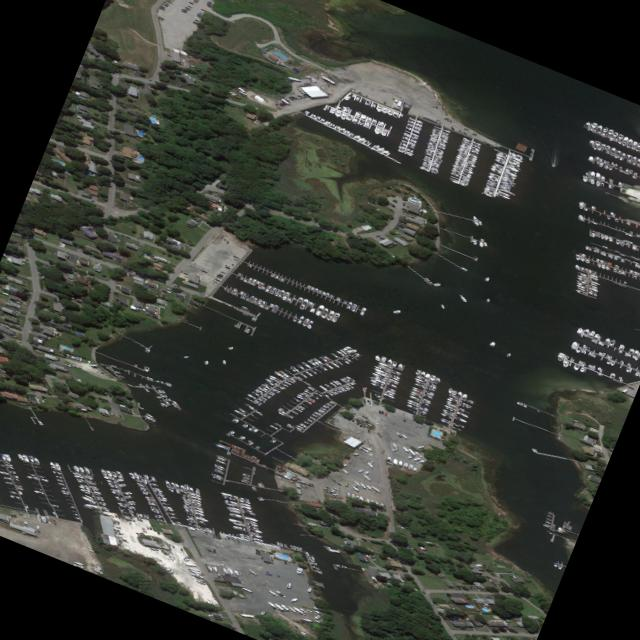ship: (242, 369, 297, 404), (219, 282, 277, 311), (293, 398, 334, 430), (133, 478, 163, 519), (396, 116, 422, 154), (229, 446, 259, 462), (367, 374, 384, 383), (371, 365, 388, 374), (78, 494, 95, 503), (496, 186, 514, 194), (290, 605, 306, 614), (229, 442, 245, 451), (218, 490, 238, 497), (320, 74, 335, 83), (494, 191, 510, 199), (370, 370, 386, 378), (371, 368, 387, 376), (372, 363, 388, 371), (271, 601, 285, 610), (275, 368, 289, 377), (449, 177, 464, 185), (505, 161, 520, 169), (208, 470, 223, 478), (375, 359, 390, 367), (499, 178, 513, 186), (503, 168, 517, 176), (241, 401, 255, 409), (369, 377, 383, 385), (371, 373, 385, 381), (265, 600, 279, 608), (507, 154, 522, 161), (504, 164, 519, 171), (368, 380, 383, 387), (509, 151, 522, 159), (496, 188, 509, 196), (304, 73, 317, 81), (455, 409, 468, 417), (273, 588, 286, 596), (479, 190, 493, 197), (506, 156, 520, 163), (505, 158, 519, 165), (500, 176, 514, 183), (375, 362, 389, 369), (217, 438, 231, 445), (190, 571, 204, 578), (221, 497, 237, 503), (226, 510, 242, 516), (299, 359, 311, 367), (230, 523, 246, 529), (278, 602, 290, 610), (369, 484, 381, 492), (134, 511, 150, 517), (481, 185, 494, 192), (493, 151, 506, 158), (501, 174, 514, 181), (502, 171, 515, 178), (488, 163, 501, 170), (503, 166, 516, 173), (232, 407, 245, 414), (213, 442, 226, 449), (210, 466, 223, 473), (453, 414, 466, 421), (424, 382, 437, 389), (382, 391, 395, 398), (405, 396, 418, 403), (409, 386, 422, 393), (412, 375, 425, 382), (263, 376, 276, 383), (555, 350, 564, 360), (293, 564, 303, 573), (247, 526, 262, 532), (82, 501, 97, 507), (194, 515, 209, 521), (245, 566, 256, 574), (499, 181, 511, 188), (488, 165, 500, 172), (227, 516, 241, 522), (221, 494, 235, 500), (442, 402, 454, 409), (387, 376, 399, 383), (408, 388, 420, 395), (308, 357, 320, 364), (266, 588, 278, 595), (231, 520, 245, 526), (359, 443, 371, 450), (144, 414, 156, 421), (82, 492, 94, 499), (266, 374, 278, 381), (272, 369, 284, 376), (267, 373, 279, 380), (568, 339, 577, 348), (581, 119, 590, 128), (2, 451, 11, 460), (223, 504, 239, 509), (223, 501, 239, 506), (238, 612, 254, 617), (491, 156, 504, 162), (485, 173, 498, 179), (407, 391, 420, 397), (244, 517, 257, 523), (244, 515, 257, 521), (71, 562, 84, 568), (288, 364, 299, 371), (498, 183, 509, 190), (418, 164, 429, 171), (386, 380, 397, 387), (384, 387, 395, 394), (305, 358, 316, 365), (311, 356, 322, 363), (334, 348, 345, 355), (241, 585, 252, 592), (297, 606, 308, 613), (358, 445, 369, 452), (91, 566, 102, 573), (457, 293, 466, 301), (493, 154, 505, 160), (495, 149, 507, 155), (487, 171, 499, 177), (491, 161, 503, 167), (338, 111, 347, 119), (332, 108, 341, 116), (278, 97, 290, 103), (372, 125, 381, 133), (581, 326, 590, 334), (561, 358, 569, 367), (571, 362, 580, 370), (576, 199, 584, 208), (439, 411, 451, 417), (444, 396, 456, 402), (412, 378, 424, 384), (407, 393, 419, 399), (410, 384, 422, 390), (413, 373, 425, 379), (311, 604, 323, 610), (311, 612, 323, 618), (238, 500, 250, 506), (20, 452, 29, 460), (52, 461, 61, 469), (47, 460, 56, 468), (326, 547, 340, 552), (370, 142, 380, 149), (339, 356, 349, 363), (406, 447, 416, 454), (298, 616, 312, 621), (286, 604, 296, 611), (207, 598, 217, 605), (185, 565, 199, 570), (455, 152, 466, 158), (455, 147, 466, 153), (454, 154, 465, 160), (390, 307, 401, 313), (481, 188, 492, 194), (460, 171, 471, 177), (449, 167, 460, 173), (450, 162, 461, 168), (452, 158, 463, 164), (464, 160, 475, 166), (452, 156, 463, 162), (483, 183, 494, 189), (484, 178, 495, 184), (486, 176, 497, 182), (235, 406, 246, 412), (214, 457, 225, 463), (213, 462, 224, 468), (212, 464, 223, 470), (573, 287, 584, 293), (574, 280, 585, 286), (621, 237, 632, 243), (575, 275, 586, 281), (588, 279, 599, 285), (587, 274, 598, 280), (441, 407, 452, 413), (459, 400, 470, 406), (446, 392, 457, 398), (388, 374, 399, 380), (384, 385, 395, 391), (389, 372, 400, 378), (383, 389, 394, 395), (422, 389, 433, 395), (405, 402, 416, 408), (406, 400, 417, 406), (418, 403, 429, 409), (420, 397, 431, 403), (294, 362, 305, 368), (336, 347, 347, 353), (291, 423, 302, 429), (255, 385, 266, 391), (245, 392, 256, 398), (189, 494, 202, 499), (286, 75, 299, 80), (344, 347, 357, 352), (245, 521, 258, 526), (239, 504, 252, 509), (237, 498, 250, 503), (77, 486, 90, 491), (24, 473, 37, 478), (369, 574, 377, 582), (374, 103, 382, 111), (342, 104, 350, 112), (379, 127, 387, 135), (587, 328, 595, 336), (631, 347, 639, 355), (428, 372, 436, 380), (220, 565, 228, 573), (210, 563, 218, 571), (71, 463, 79, 471), (575, 325, 582, 334), (257, 608, 266, 615), (361, 472, 370, 479), (339, 466, 348, 473), (126, 471, 135, 478), (139, 476, 148, 483), (303, 369, 313, 375), (298, 371, 308, 377), (461, 169, 471, 175), (450, 165, 460, 171), (462, 167, 472, 173), (452, 160, 462, 166), (484, 181, 494, 187), (188, 491, 200, 496), (375, 145, 385, 151), (305, 384, 315, 390), (587, 289, 597, 295), (575, 285, 585, 291), (575, 282, 585, 288), (575, 273, 587, 278), (576, 270, 586, 276), (441, 409, 451, 415), (445, 398, 455, 404), (446, 394, 456, 400), (425, 384, 435, 390), (317, 383, 327, 389), (417, 407, 427, 413), (418, 405, 428, 411), (426, 380, 436, 386), (318, 363, 328, 369), (344, 374, 354, 380), (338, 376, 348, 382), (329, 378, 339, 384), (317, 355, 327, 361), (329, 360, 339, 366), (237, 531, 249, 536), (249, 532, 261, 537), (349, 484, 359, 490), (31, 488, 43, 493), (264, 379, 274, 385), (259, 382, 269, 388), (250, 389, 260, 395), (36, 476, 48, 481), (182, 561, 197, 565), (71, 559, 83, 564), (102, 474, 114, 479), (7, 493, 19, 498), (319, 310, 326, 318), (391, 109, 399, 116), (380, 105, 388, 112), (354, 109, 361, 117), (617, 342, 625, 349), (607, 338, 615, 345), (602, 335, 610, 342), (487, 339, 495, 346), (586, 137, 593, 145), (586, 153, 593, 161), (423, 370, 430, 378), (232, 568, 240, 575), (225, 566, 233, 573), (616, 132, 624, 139), (600, 125, 608, 132), (589, 120, 597, 127), (365, 460, 373, 467), (15, 452, 23, 459), (114, 469, 121, 477), (104, 468, 112, 475), (99, 468, 107, 475), (39, 515, 47, 522), (83, 465, 90, 473), (190, 496, 201, 501), (575, 278, 586, 283), (413, 381, 424, 386), (421, 392, 432, 397), (349, 350, 360, 355), (246, 523, 257, 528), (215, 453, 226, 458), (192, 507, 203, 512), (193, 510, 204, 515), (184, 516, 195, 521), (467, 151, 476, 157), (458, 178, 467, 184), (313, 390, 322, 396), (352, 133, 361, 139), (588, 285, 597, 291), (581, 173, 587, 182), (324, 362, 333, 368), (341, 375, 350, 381), (330, 351, 339, 357), (334, 358, 343, 364), (322, 354, 331, 360), (278, 405, 287, 411), (405, 452, 414, 458), (363, 483, 372, 489), (276, 382, 285, 388), (262, 381, 271, 387), (187, 568, 200, 572), (466, 154, 476, 159), (457, 145, 467, 150), (458, 143, 468, 148), (469, 145, 479, 150), (460, 139, 470, 144), (438, 134, 448, 139), (465, 156, 475, 161), (191, 499, 201, 504), (215, 455, 225, 460), (295, 392, 305, 397), (433, 147, 443, 152), (322, 382, 332, 387), (587, 283, 597, 288), (587, 281, 597, 286), (443, 405, 453, 410), (445, 401, 455, 406), (458, 402, 468, 407), (390, 368, 400, 373), (327, 380, 337, 385), (267, 423, 277, 428), (275, 407, 285, 412), (143, 411, 153, 416), (252, 388, 262, 393), (330, 315, 337, 322), (325, 313, 332, 320), (301, 296, 308, 303), (345, 113, 352, 120), (386, 107, 393, 114), (370, 117, 377, 124), (376, 119, 383, 126), (623, 365, 630, 372), (592, 331, 599, 338), (627, 346, 634, 353), (594, 364, 601, 371), (574, 345, 581, 352), (460, 391, 467, 398), (413, 367, 420, 374), (385, 357, 392, 364), (284, 580, 291, 587), (621, 134, 628, 141), (606, 127, 613, 134), (595, 123, 602, 130), (32, 456, 39, 463), (77, 465, 84, 472), (237, 85, 245, 91), (243, 326, 251, 332), (227, 508, 239, 512), (231, 416, 239, 422), (351, 115, 357, 123), (357, 135, 365, 141), (593, 170, 599, 178), (576, 212, 582, 220), (573, 252, 579, 260), (594, 178, 600, 186), (588, 176, 594, 184), (413, 450, 421, 456), (400, 432, 408, 438), (251, 536, 263, 540), (391, 456, 397, 464), (352, 479, 360, 485), (27, 453, 33, 461), (76, 484, 88, 488), (109, 470, 117, 476), (438, 137, 447, 142), (428, 133, 437, 138), (457, 150, 466, 155), (460, 141, 469, 146), (430, 127, 439, 132), (590, 244, 599, 249), (465, 158, 474, 163), (460, 176, 469, 181), (460, 174, 469, 179), (449, 170, 458, 175), (463, 165, 472, 170), (225, 344, 234, 349), (254, 409, 263, 414), (237, 434, 246, 439), (212, 475, 221, 480), (237, 89, 246, 94), (429, 166, 438, 171), (419, 163, 428, 168), (303, 387, 312, 392), (310, 393, 319, 398), (301, 388, 310, 393), (421, 156, 430, 161), (430, 160, 439, 165), (431, 157, 440, 162), (436, 140, 445, 145), (426, 139, 435, 144), (436, 143, 445, 148), (425, 141, 434, 146), (423, 147, 432, 152), (433, 151, 442, 156), (432, 155, 441, 160), (305, 397, 314, 402), (361, 138, 370, 143), (587, 287, 596, 292), (588, 272, 597, 277), (623, 231, 632, 236), (587, 219, 596, 224), (411, 455, 420, 460), (415, 443, 424, 448), (440, 416, 449, 421), (416, 457, 425, 462), (424, 388, 433, 393), (421, 396, 430, 401), (308, 367, 317, 372), (333, 378, 342, 383), (334, 386, 343, 391), (342, 94, 351, 99), (409, 133, 418, 138), (258, 384, 267, 389), (303, 398, 312, 403), (290, 396, 299, 401), (366, 200, 375, 205), (340, 345, 351, 349), (248, 530, 259, 534), (241, 507, 252, 511), (238, 495, 249, 499), (181, 504, 192, 508), (70, 471, 81, 475), (72, 473, 83, 477), (192, 505, 203, 509), (163, 506, 174, 510), (156, 494, 167, 498), (152, 488, 163, 492), (110, 489, 121, 493), (470, 237, 476, 244), (314, 308, 320, 315), (308, 306, 315, 312), (333, 310, 340, 316), (317, 303, 323, 310), (298, 302, 305, 308), (285, 295, 291, 302), (246, 424, 253, 430), (329, 106, 335, 113), (363, 120, 369, 127), (364, 98, 371, 104), (360, 112, 366, 119), (632, 369, 639, 375), (445, 386, 452, 392), (578, 364, 584, 371), (613, 237, 619, 244), (606, 234, 612, 241), (603, 143, 610, 149), (594, 138, 600, 145), (455, 389, 461, 396), (401, 445, 408, 451), (434, 375, 440, 382), (419, 369, 425, 376), (396, 361, 402, 368), (390, 359, 396, 366), (390, 440, 396, 447), (626, 136, 632, 143), (611, 130, 618, 136), (401, 460, 407, 467), (358, 481, 365, 487), (133, 471, 139, 478), (0, 451, 6, 458), (471, 143, 479, 148), (460, 136, 468, 141), (439, 132, 447, 137), (321, 391, 329, 396), (287, 365, 295, 370), (330, 388, 338, 393), (191, 502, 201, 506), (240, 471, 248, 476), (381, 148, 389, 153), (298, 391, 306, 396), (434, 149, 442, 154), (589, 168, 594, 176), (394, 431, 402, 436), (341, 384, 349, 389), (374, 352, 379, 360), (343, 356, 351, 361), (239, 534, 249, 538), (289, 596, 297, 601), (295, 423, 303, 428), (276, 410, 284, 415), (385, 454, 390, 462), (352, 482, 360, 487), (181, 502, 191, 506), (244, 395, 252, 400), (183, 508, 193, 512), (147, 545, 157, 549), (93, 564, 101, 569), (74, 476, 84, 480), (85, 478, 95, 482), (91, 489, 101, 493), (254, 387, 262, 392), (283, 379, 291, 384), (113, 494, 123, 498), (106, 481, 116, 485), (294, 406, 302, 411), (599, 141, 605, 147), (477, 240, 483, 246), (471, 214, 477, 220), (328, 308, 334, 314), (322, 306, 328, 312), (463, 163, 472, 167), (624, 141, 630, 147), (297, 295, 303, 301), (283, 289, 289, 295), (164, 479, 170, 485), (272, 421, 281, 425), (321, 543, 330, 547), (421, 159, 430, 163), (422, 150, 431, 154), (357, 118, 363, 124), (365, 115, 371, 121), (609, 359, 615, 365), (604, 357, 610, 363), (630, 243, 636, 249), (599, 174, 605, 180), (609, 145, 615, 151), (450, 388, 456, 394), (305, 585, 311, 591), (631, 139, 637, 145), (167, 553, 173, 559), (153, 512, 162, 516), (60, 490, 69, 494), (9, 473, 18, 477), (143, 365, 149, 371), (83, 475, 92, 479), (115, 477, 124, 481), (162, 504, 171, 508), (155, 492, 164, 496), (7, 489, 16, 493), (108, 487, 120, 490), (390, 370, 399, 374), (482, 275, 489, 280), (188, 485, 193, 492), (174, 481, 179, 488), (169, 480, 174, 487), (241, 422, 248, 427), (269, 437, 276, 442), (301, 390, 308, 395), (433, 153, 440, 158), (309, 112, 316, 117), (313, 114, 320, 119), (324, 119, 331, 124), (338, 126, 345, 131), (369, 102, 376, 107), (328, 388, 335, 393), (603, 233, 608, 240), (616, 179, 621, 186), (504, 351, 511, 356), (407, 462, 412, 469), (556, 562, 561, 569), (339, 385, 346, 390), (380, 354, 385, 361), (405, 149, 412, 154), (414, 120, 421, 125), (196, 596, 203, 601), (11, 475, 18, 480), (36, 419, 43, 424), (287, 377, 294, 382), (148, 474, 155, 479), (295, 404, 302, 409), (619, 239, 624, 246), (431, 282, 442, 285), (115, 501, 126, 504), (104, 478, 115, 481), (428, 135, 436, 139), (470, 148, 478, 152), (430, 129, 438, 133), (325, 390, 333, 394), (430, 162, 438, 166), (420, 161, 428, 165), (425, 146, 433, 150), (307, 396, 315, 400), (332, 388, 340, 392), (420, 400, 428, 404), (343, 384, 351, 388), (336, 386, 344, 390), (390, 446, 398, 450), (459, 265, 467, 269), (471, 141, 479, 145), (239, 478, 247, 482), (240, 477, 248, 481), (195, 518, 203, 522), (157, 303, 165, 307), (396, 144, 404, 148), (406, 141, 414, 145), (403, 151, 411, 155), (398, 140, 406, 144), (407, 140, 415, 144), (138, 486, 146, 490), (146, 499, 154, 503), (63, 362, 71, 366), (67, 362, 75, 366), (54, 473, 62, 477), (270, 388, 278, 392), (261, 393, 269, 397), (257, 397, 265, 401), (275, 384, 283, 388), (122, 493, 130, 497), (309, 412, 317, 416), (311, 411, 319, 415), (295, 374, 303, 378), (631, 259, 639, 263), (579, 255, 584, 261), (605, 214, 611, 219), (589, 203, 594, 209), (473, 219, 478, 225), (360, 305, 366, 310), (306, 322, 311, 328), (301, 320, 307, 325), (277, 276, 283, 281), (307, 300, 313, 305), (280, 294, 286, 299), (272, 290, 278, 295), (202, 358, 208, 363), (179, 495, 189, 498), (607, 135, 613, 140), (329, 122, 335, 127), (334, 124, 340, 129), (344, 129, 350, 134), (353, 95, 359, 100), (609, 371, 614, 377), (585, 362, 591, 367), (590, 363, 595, 369), (598, 232, 603, 238), (614, 148, 620, 153), (620, 150, 625, 156), (573, 262, 578, 268), (635, 156, 640, 162), (555, 525, 561, 530), (551, 560, 556, 566), (629, 154, 635, 159), (634, 141, 640, 146), (357, 494, 362, 500), (364, 496, 369, 502), (181, 499, 191, 502), (167, 567, 173, 572), (58, 488, 68, 491), (75, 479, 85, 482), (77, 482, 87, 485), (83, 473, 93, 476), (87, 481, 97, 484), (249, 315, 255, 320), (143, 473, 149, 478), (22, 519, 27, 525), (22, 502, 28, 507), (108, 483, 118, 486), (440, 130, 447, 134), (430, 131, 437, 135), (183, 482, 187, 489), (427, 137, 434, 141), (426, 144, 433, 148), (423, 154, 430, 158), (295, 394, 302, 398), (349, 380, 356, 384), (346, 383, 353, 387), (362, 469, 369, 473), (356, 467, 363, 471), (397, 458, 401, 465), (273, 473, 280, 477), (241, 475, 248, 479), (247, 510, 254, 514), (240, 304, 247, 308), (397, 143, 404, 147), (405, 146, 412, 150), (405, 148, 412, 152), (406, 118, 413, 122), (405, 119, 412, 123), (405, 121, 412, 125), (404, 124, 411, 128), (403, 125, 410, 129), (401, 130, 408, 134), (400, 135, 407, 139), (399, 138, 406, 142), (406, 143, 413, 147), (307, 77, 314, 81), (414, 119, 421, 123), (413, 122, 420, 126), (413, 124, 420, 128), (412, 127, 419, 131), (410, 135, 417, 139), (181, 554, 188, 558), (164, 566, 171, 570), (86, 547, 93, 551), (3, 459, 10, 463), (55, 477, 62, 481), (272, 387, 279, 391), (266, 390, 273, 394), (263, 392, 270, 396), (280, 381, 287, 385), (297, 404, 304, 408), (313, 410, 320, 414), (316, 408, 323, 412), (317, 407, 324, 411), (325, 400, 332, 404), (254, 399, 261, 403), (285, 423, 292, 427), (298, 422, 305, 426), (465, 399, 472, 403), (623, 256, 630, 260), (181, 497, 190, 500), (330, 562, 339, 565), (350, 451, 359, 454), (135, 482, 144, 485), (143, 495, 152, 498), (145, 497, 154, 500), (149, 507, 158, 510), (3, 462, 12, 465), (123, 490, 132, 493), (116, 482, 125, 485), (158, 497, 167, 500), (1, 475, 10, 478), (619, 269, 624, 274), (631, 273, 636, 278), (623, 166, 628, 171), (617, 154, 622, 159), (612, 152, 617, 157), (633, 145, 638, 150), (630, 144, 635, 149), (612, 161, 617, 166), (618, 256, 623, 261), (624, 219, 629, 224), (606, 176, 611, 181), (607, 164, 612, 169), (598, 161, 603, 166), (620, 140, 625, 145), (347, 300, 352, 305), (351, 301, 356, 306), (358, 309, 363, 314), (350, 306, 355, 311), (616, 138, 621, 143), (304, 316, 309, 321), (296, 318, 301, 323), (256, 283, 261, 288), (313, 286, 318, 291), (279, 288, 284, 293), (268, 288, 273, 293), (264, 287, 269, 292), (260, 284, 265, 289), (612, 136, 617, 141), (600, 131, 605, 136), (595, 129, 600, 134), (324, 104, 329, 109), (580, 360, 585, 365), (576, 358, 581, 363), (586, 350, 591, 355), (590, 351, 595, 356), (590, 231, 595, 236), (625, 152, 630, 157), (586, 267, 591, 272), (579, 264, 584, 269), (411, 465, 416, 470), (349, 492, 354, 497), (378, 501, 383, 506), (131, 546, 136, 551), (259, 302, 264, 307), (255, 300, 260, 305), (232, 290, 237, 295), (291, 316, 296, 321), (600, 262, 604, 268), (612, 266, 616, 272), (444, 127, 450, 131), (606, 182, 610, 188), (439, 302, 443, 308), (250, 277, 256, 281), (245, 279, 251, 283), (270, 285, 276, 289), (274, 287, 280, 291), (251, 427, 257, 431), (228, 429, 234, 433), (247, 440, 253, 444), (430, 165, 436, 169), (563, 354, 569, 358), (608, 209, 612, 215), (339, 462, 347, 465), (326, 488, 334, 491), (328, 487, 336, 490), (243, 474, 249, 478), (166, 511, 174, 514), (164, 399, 170, 403), (407, 116, 413, 120), (405, 122, 411, 126), (402, 132, 408, 136), (400, 134, 408, 137), (409, 138, 415, 142), (413, 125, 419, 129), (75, 257, 79, 263), (77, 355, 81, 361), (98, 504, 106, 507), (95, 496, 103, 499), (90, 486, 98, 489), (147, 501, 155, 504), (118, 503, 126, 506), (116, 497, 124, 500), (86, 545, 92, 549), (15, 485, 23, 488), (5, 464, 13, 467), (8, 469, 16, 472), (14, 483, 22, 486), (227, 89, 235, 92), (229, 92, 237, 95), (52, 470, 60, 473), (259, 396, 265, 400), (148, 481, 156, 484), (128, 506, 136, 509), (126, 499, 134, 502), (35, 523, 39, 529), (154, 490, 162, 493), (0, 470, 8, 473), (320, 405, 326, 409), (621, 387, 627, 391), (326, 490, 333, 493), (329, 485, 336, 488), (396, 147, 403, 150), (430, 170, 437, 173), (185, 510, 192, 513), (185, 514, 192, 517), (134, 478, 141, 481), (252, 401, 259, 404), (398, 142, 405, 145), (411, 129, 418, 132), (410, 132, 417, 135), (409, 137, 416, 140), (72, 515, 79, 518), (51, 503, 58, 506), (149, 504, 156, 507), (152, 509, 159, 512), (94, 564, 101, 567), (57, 481, 64, 484), (267, 390, 274, 393), (127, 504, 134, 507), (318, 406, 325, 409), (322, 403, 329, 406), (457, 406, 464, 409), (305, 417, 312, 420), (613, 253, 620, 256), (629, 254, 636, 257), (618, 252, 625, 255), (600, 244, 607, 247), (606, 260, 610, 265), (584, 257, 588, 262), (596, 261, 600, 266), (604, 264, 608, 269), (616, 268, 620, 273), (635, 161, 639, 166), (625, 158, 630, 162), (608, 151, 613, 155), (604, 149, 609, 153), (596, 145, 600, 150), (591, 144, 596, 148), (612, 254, 616, 259), (613, 217, 618, 221), (599, 180, 603, 185), (604, 163, 608, 168), (594, 154, 598, 159), (324, 291, 329, 295), (320, 290, 325, 294), (317, 288, 322, 292), (485, 296, 489, 301), (477, 219, 481, 224), (335, 295, 339, 300), (345, 304, 350, 308), (255, 278, 259, 283), (308, 319, 313, 323), (299, 314, 303, 319), (221, 358, 225, 363), (267, 283, 271, 288), (269, 272, 274, 276), (277, 292, 282, 296), (174, 487, 178, 492), (304, 550, 309, 554), (591, 127, 595, 132), (319, 117, 324, 121), (349, 132, 354, 136), (600, 351, 605, 355), (581, 342, 585, 347), (581, 348, 585, 353), (583, 266, 587, 271), (136, 382, 141, 386), (627, 168, 632, 172), (550, 162, 555, 166), (87, 363, 97, 365), (137, 512, 142, 516), (134, 511, 139, 515), (145, 347, 150, 351), (268, 302, 273, 306), (272, 303, 277, 307), (270, 307, 275, 311), (249, 294, 254, 298), (244, 295, 248, 300), (250, 484, 254, 489), (585, 344, 589, 349), (438, 139, 444, 142), (637, 350, 640, 356), (346, 490, 349, 496), (355, 493, 358, 499), (240, 311, 246, 314), (515, 152, 521, 155), (93, 491, 99, 494), (87, 484, 96, 486), (260, 396, 266, 399), (129, 501, 135, 504), (150, 486, 159, 488), (3, 480, 12, 482), (321, 404, 327, 407), (308, 415, 314, 418), (315, 410, 321, 413), (324, 402, 330, 405), (328, 399, 334, 402), (302, 420, 308, 423), (467, 398, 473, 401), (628, 268, 632, 272), (599, 258, 603, 262), (580, 251, 584, 255), (583, 244, 587, 248), (630, 160, 634, 164), (609, 160, 613, 164), (608, 253, 612, 257), (633, 262, 637, 266), (328, 292, 332, 296), (342, 298, 346, 302), (259, 280, 263, 284), (237, 271, 241, 275), (250, 280, 254, 284), (242, 277, 246, 281), (239, 276, 243, 280), (274, 274, 278, 278), (607, 354, 611, 358), (597, 350, 601, 354), (591, 269, 595, 273), (330, 492, 338, 494), (156, 388, 164, 390), (601, 158, 605, 162), (598, 156, 602, 160), (594, 159, 598, 163), (605, 133, 609, 137), (336, 104, 340, 108), (68, 353, 72, 357), (64, 352, 68, 356), (50, 509, 54, 513), (144, 513, 148, 517), (94, 495, 102, 497), (194, 488, 198, 492), (264, 304, 268, 308), (261, 299, 265, 303), (253, 295, 257, 299), (242, 290, 246, 294), (239, 289, 243, 293), (248, 297, 252, 301), (240, 294, 244, 298), (625, 361, 629, 365), (633, 355, 637, 359), (630, 353, 634, 357), (623, 351, 627, 355), (616, 348, 620, 352), (635, 246, 639, 250), (599, 341, 603, 345), (483, 240, 486, 245), (247, 276, 252, 279), (309, 285, 314, 288), (179, 483, 182, 488), (169, 486, 172, 491), (302, 109, 307, 112), (397, 148, 402, 151), (618, 168, 623, 171), (635, 183, 640, 186), (71, 511, 76, 514), (252, 298, 255, 303), (424, 276, 429, 279), (608, 251, 613, 254), (523, 402, 526, 407), (339, 564, 346, 566), (186, 516, 193, 518), (135, 481, 142, 483), (140, 489, 147, 491), (98, 502, 105, 504), (182, 557, 189, 559), (97, 500, 104, 502), (140, 491, 147, 493), (153, 515, 160, 517), (82, 490, 89, 492), (102, 372, 109, 374), (257, 497, 264, 499), (255, 495, 262, 497), (603, 259, 606, 263), (636, 270, 639, 274), (633, 269, 636, 273), (614, 263, 617, 267), (602, 251, 605, 255), (599, 250, 602, 254), (595, 248, 598, 252), (583, 206, 587, 209), (306, 284, 310, 287), (604, 353, 608, 356), (569, 357, 573, 360), (226, 451, 230, 454), (246, 438, 250, 441), (254, 444, 258, 447), (113, 369, 119, 371), (139, 485, 145, 487), (617, 164, 621, 167), (631, 173, 634, 177), (632, 170, 636, 173), (416, 118, 420, 121), (351, 92, 354, 96), (398, 112, 402, 115), (71, 354, 75, 357), (74, 355, 77, 359), (86, 358, 89, 362), (142, 512, 145, 516), (129, 508, 133, 511), (257, 297, 260, 301), (233, 286, 236, 290), (229, 289, 232, 293), (225, 287, 228, 291), (619, 358, 622, 362), (623, 241, 627, 244), (629, 229, 632, 233), (617, 374, 620, 378), (589, 337, 593, 340), (593, 338, 596, 342), (636, 263, 639, 267), (519, 401, 522, 405), (638, 147, 640, 152), (159, 401, 164, 403), (60, 485, 65, 487), (30, 473, 35, 475), (38, 474, 43, 476), (327, 400, 332, 402), (596, 257, 599, 260), (584, 171, 587, 174), (627, 352, 630, 355), (635, 232, 638, 235), (597, 340, 600, 343), (479, 237, 482, 240), (623, 280, 626, 283), (592, 248, 595, 251), (638, 163, 640, 167), (462, 136, 466, 138), (119, 507, 123, 509), (0, 463, 4, 465), (341, 104, 343, 107), (174, 520, 180, 521), (169, 515, 175, 516), (363, 385, 365, 388), (155, 395, 160, 396), (340, 107, 342, 109), (639, 173, 640, 176), (639, 233, 640, 236)
small-vehicle: (199, 268, 207, 272), (289, 94, 296, 98), (181, 270, 188, 274), (180, 7, 187, 11), (250, 119, 256, 123), (223, 264, 229, 268), (295, 93, 301, 97), (215, 273, 221, 277), (231, 254, 238, 257), (117, 129, 124, 132), (157, 6, 164, 9), (457, 128, 462, 132), (211, 278, 216, 282), (165, 0, 170, 4), (139, 530, 144, 534), (12, 518, 16, 523), (283, 98, 289, 101), (279, 101, 285, 104), (224, 263, 230, 266), (219, 269, 225, 272), (298, 94, 304, 97), (217, 272, 223, 275), (216, 273, 222, 276), (213, 277, 219, 280), (172, 282, 178, 285), (192, 19, 198, 22), (19, 257, 25, 260), (2, 324, 8, 327), (14, 323, 20, 326), (20, 301, 26, 304), (196, 11, 202, 14), (197, 8, 203, 11), (199, 7, 205, 10), (183, 5, 189, 8), (205, 3, 211, 6), (205, 0, 211, 3), (10, 513, 16, 516), (321, 486, 327, 489), (330, 478, 336, 481), (401, 199, 407, 202), (203, 529, 207, 533), (147, 525, 151, 529), (18, 510, 22, 514), (281, 100, 286, 103), (293, 95, 298, 98), (287, 96, 292, 99), (283, 96, 288, 99), (278, 103, 283, 106), (278, 101, 283, 104), (183, 243, 188, 246), (294, 94, 299, 97), (301, 93, 306, 96), (461, 130, 466, 133), (327, 73, 332, 76), (325, 73, 330, 76), (323, 81, 328, 84), (189, 259, 194, 262), (183, 274, 188, 277), (631, 199, 636, 202), (125, 182, 130, 185), (191, 20, 196, 23), (194, 18, 199, 21), (196, 14, 201, 17), (49, 318, 54, 321), (197, 10, 202, 13), (162, 2, 167, 5), (163, 1, 168, 4), (186, 4, 191, 7), (183, 7, 188, 10), (180, 8, 185, 11), (159, 4, 164, 7), (160, 3, 165, 6), (205, 1, 210, 4), (108, 513, 113, 516), (335, 481, 340, 484), (449, 125, 453, 128), (448, 119, 454, 121), (442, 116, 448, 118), (127, 272, 131, 275), (114, 231, 118, 234), (147, 77, 153, 79), (57, 298, 60, 302), (188, 0, 192, 3), (191, 0, 197, 2), (178, 546, 182, 549), (135, 516, 139, 519), (155, 530, 159, 533), (29, 513, 33, 516), (27, 512, 31, 515), (138, 531, 142, 534), (134, 531, 138, 534), (170, 543, 174, 546), (114, 525, 120, 527), (238, 571, 242, 574), (288, 95, 293, 97), (232, 257, 237, 259), (471, 132, 476, 134), (445, 118, 450, 120), (335, 70, 340, 72), (206, 279, 211, 281), (119, 233, 124, 235), (166, 53, 171, 55), (195, 13, 200, 15), (13, 241, 18, 243), (18, 242, 23, 244), (15, 339, 20, 341), (4, 321, 9, 323), (14, 309, 19, 311), (6, 299, 11, 301), (190, 534, 195, 536), (141, 529, 146, 531), (10, 512, 15, 514), (216, 573, 221, 575), (400, 221, 405, 223), (382, 100, 385, 103), (351, 87, 354, 90), (125, 271, 128, 274), (133, 68, 136, 71), (53, 295, 56, 298), (118, 413, 121, 416), (28, 319, 31, 322), (198, 529, 201, 532), (138, 517, 141, 520), (145, 525, 148, 528), (33, 514, 36, 517), (436, 118, 438, 122), (381, 88, 385, 90), (125, 235, 129, 237), (89, 198, 93, 200), (115, 74, 119, 76), (11, 323, 15, 325), (19, 311, 23, 313), (158, 63, 160, 66), (462, 127, 467, 128), (206, 0, 211, 1), (638, 203, 640, 205), (201, 529, 203, 531), (167, 542, 169, 544), (217, 575, 221, 576), (87, 227, 90, 228)
